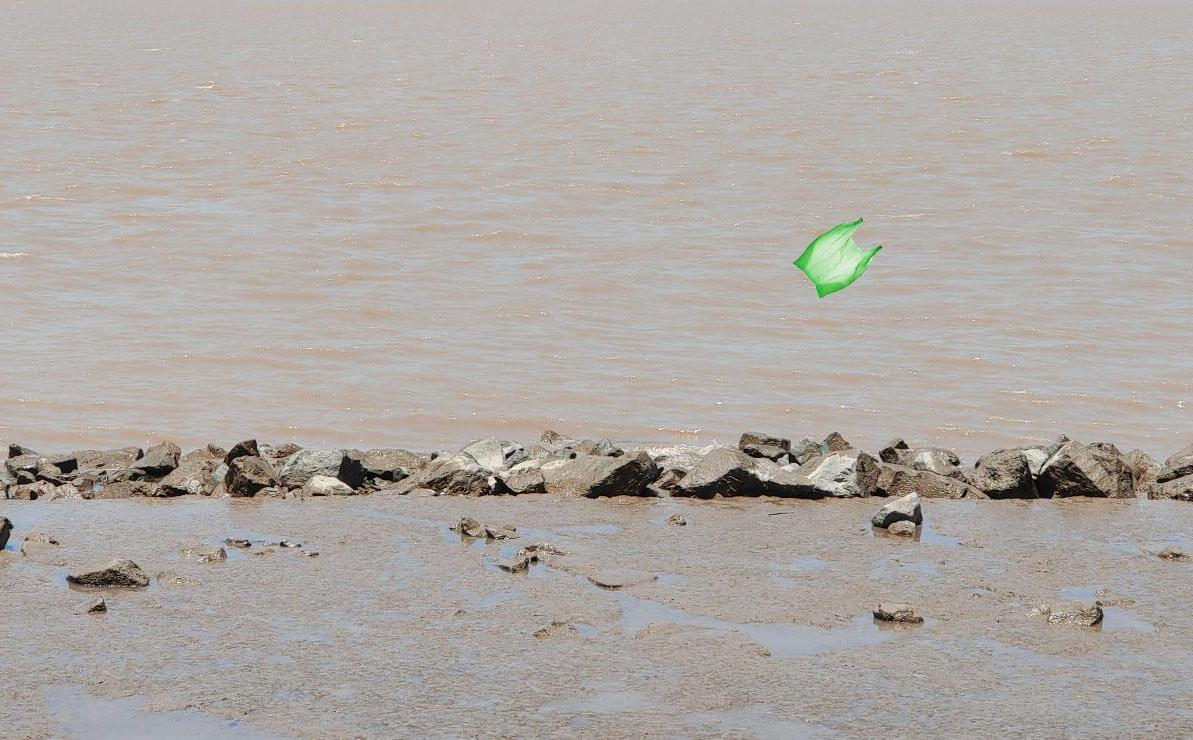Trash: (790, 213, 883, 300)
